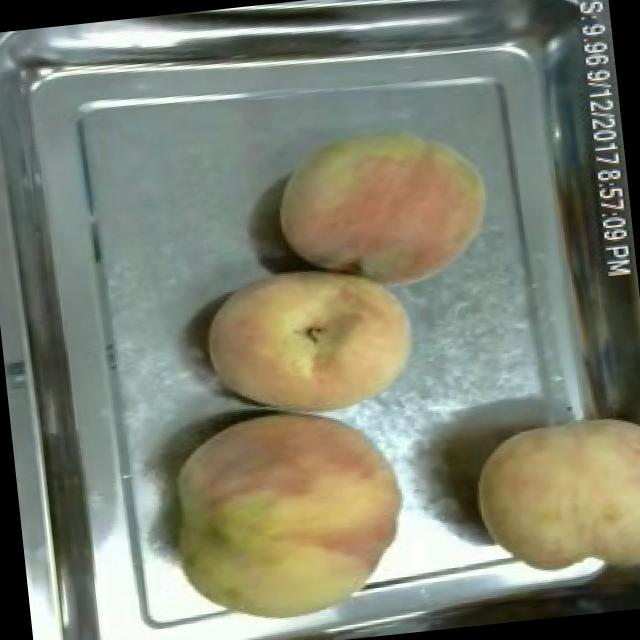Fruit: (151, 392, 424, 640), (263, 114, 504, 308), (192, 248, 430, 432), (460, 398, 640, 599)
